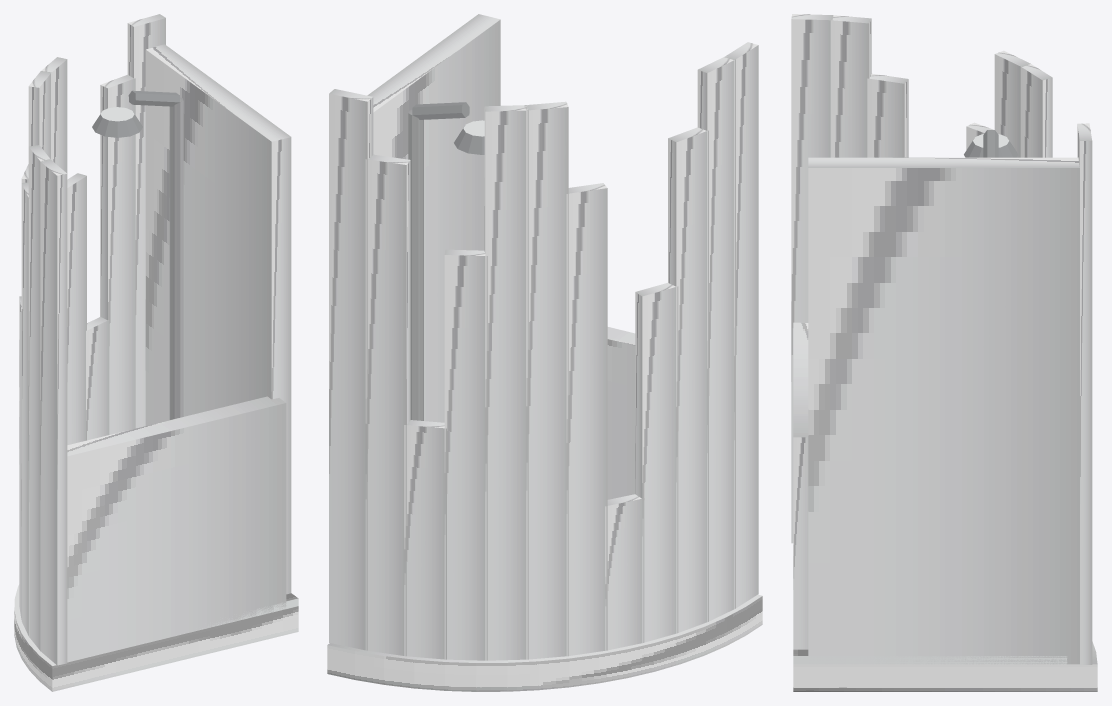
The model's file is Building_AncientShower.glb.
3 views of the same model, side by side, from view 1: azimuth 30°, elevation 25°; view 2: azimuth 150°, elevation 25°; view 3: azimuth 270°, elevation 25° (orthographic). The views are drawn at different scales.
Parts seen in each view (by area): view 1: AncientShower; view 2: AncientShower; view 3: AncientShower.
Boxes of the visible parts, x1,y1,x2,y2 form: AncientShower: (14, 14, 298, 691); AncientShower: (327, 14, 762, 691); AncientShower: (791, 14, 1097, 691).
Bounding box in the file's own units: 1.01 × 2 × 1.01.
Materials: 1 (1 with a texture image).
